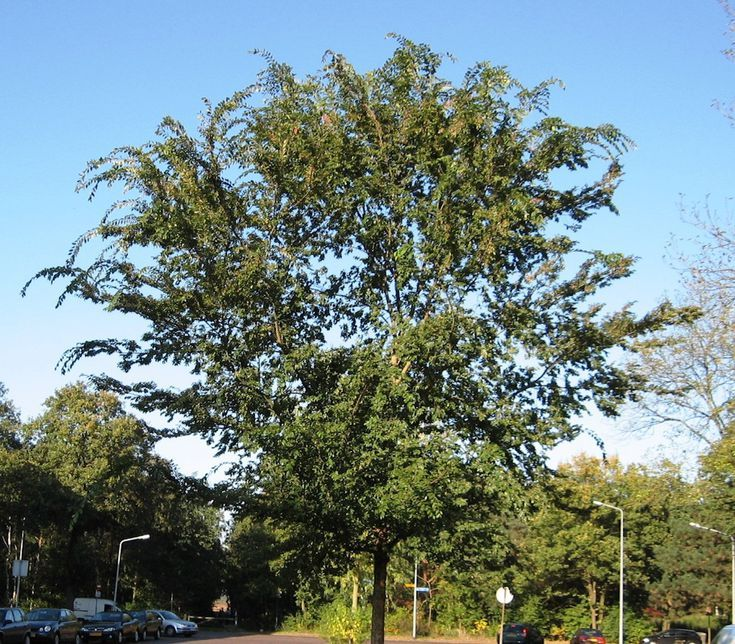tree: (19, 30, 709, 644)
